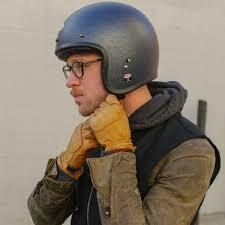helmet: (54, 0, 160, 118)
